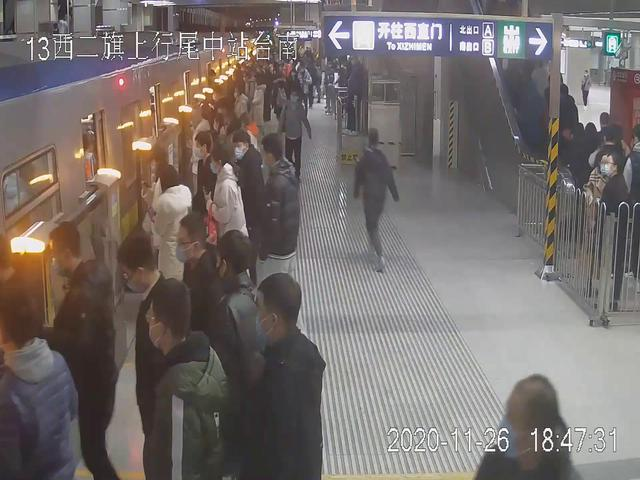person: (47, 221, 124, 480), (143, 276, 234, 480), (246, 271, 334, 480), (1, 282, 83, 480), (114, 234, 179, 480), (214, 228, 266, 480), (259, 131, 297, 327), (349, 126, 399, 271), (203, 148, 245, 287), (282, 90, 308, 187)
